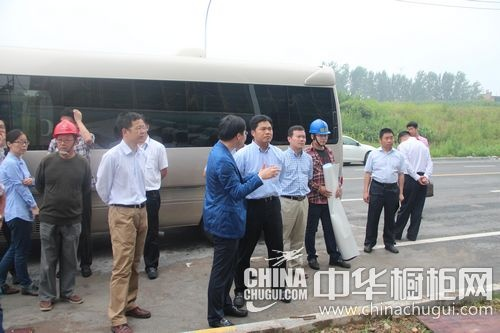blue: (307, 117, 331, 147)
none: (215, 112, 247, 148), (248, 110, 276, 146), (119, 112, 147, 143), (3, 127, 31, 156), (285, 124, 308, 150), (377, 127, 395, 149), (396, 129, 412, 145), (406, 120, 418, 135)
red: (51, 119, 79, 154)
